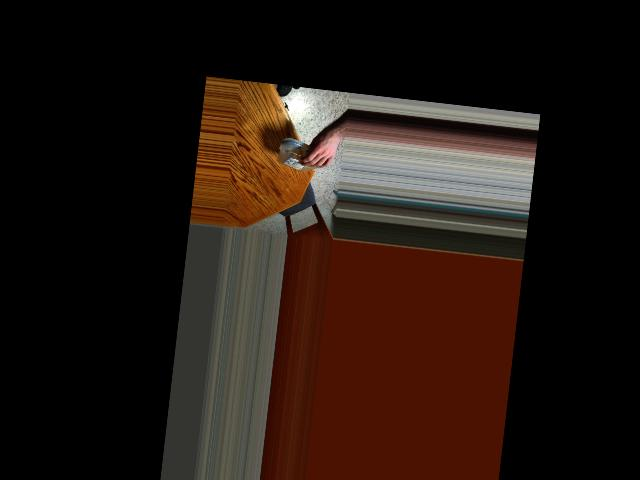cheese: (285, 134, 332, 175)
